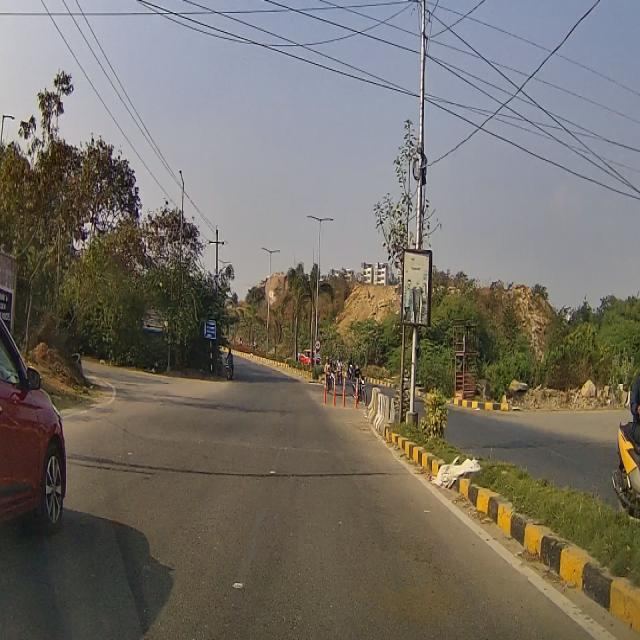car ahead at: (0, 314, 69, 537)
